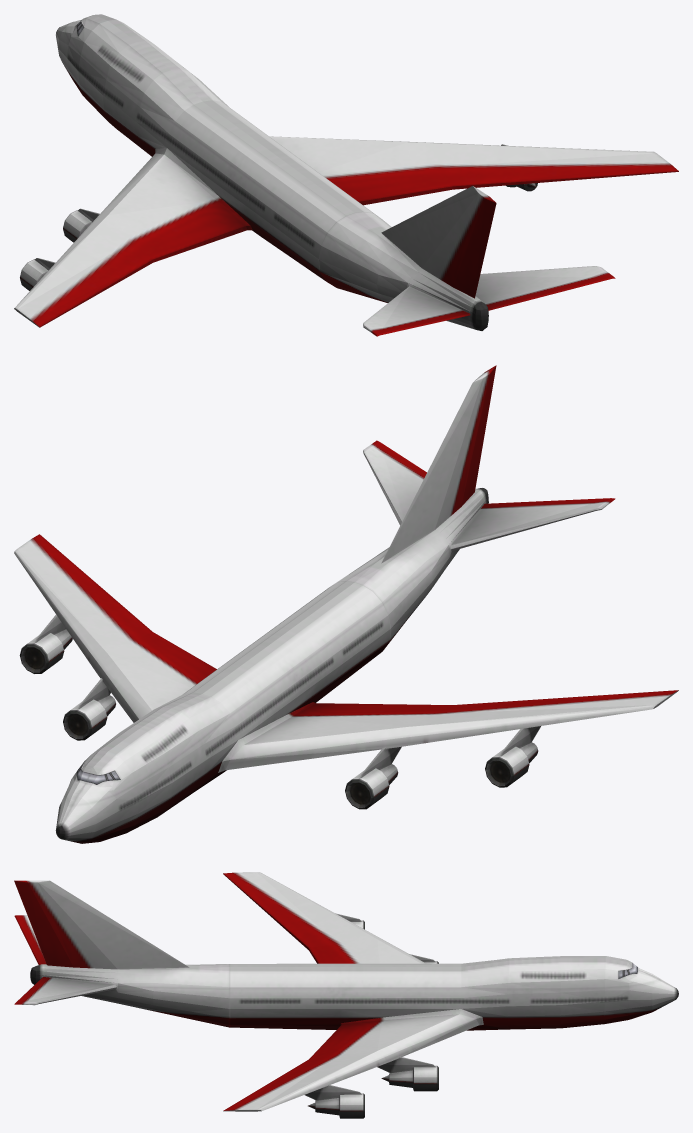
3 renders of one model, top to bottom at view 1: azimuth 30°, elevation 25°; view 2: azimuth 150°, elevation 25°; view 3: azimuth 270°, elevation 25°, orthographic. The views are drawn at different scales.
Parts seen in each view (by area): view 1: hull; view 2: hull; view 3: hull.
Boxes of the visible parts, x1=… form: hull: x1=14, y1=14, x2=678, y2=336; hull: x1=14, y1=365, x2=678, y2=843; hull: x1=14, y1=872, x2=678, y2=1118.
Size of the model in its own units: 59.37 by 18.31 by 70.23.
1 material, 1 textured.
